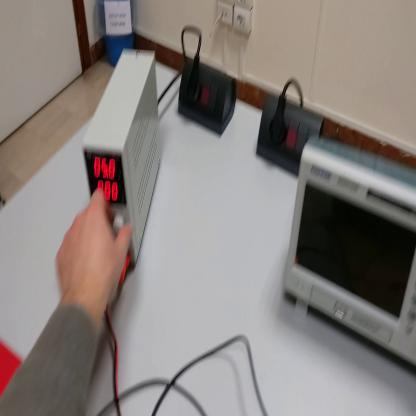hand: (56, 188, 134, 321)
oscilloscope: (285, 137, 416, 369)
power supply: (82, 59, 162, 275)
register: (1, 339, 25, 407)
socket: (258, 95, 326, 181), (179, 59, 238, 139)
